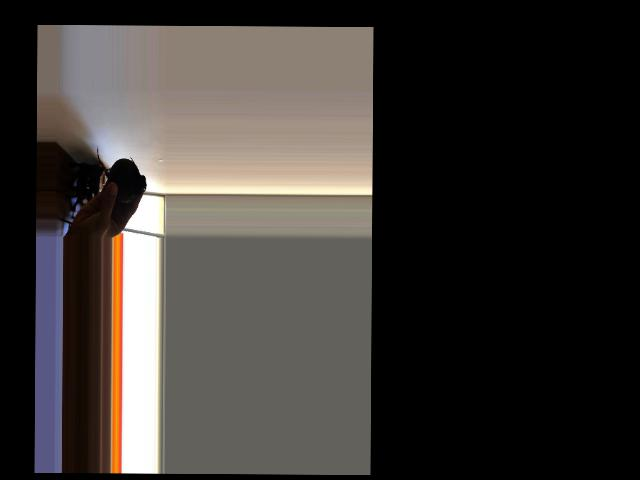beet: (96, 145, 146, 202)
